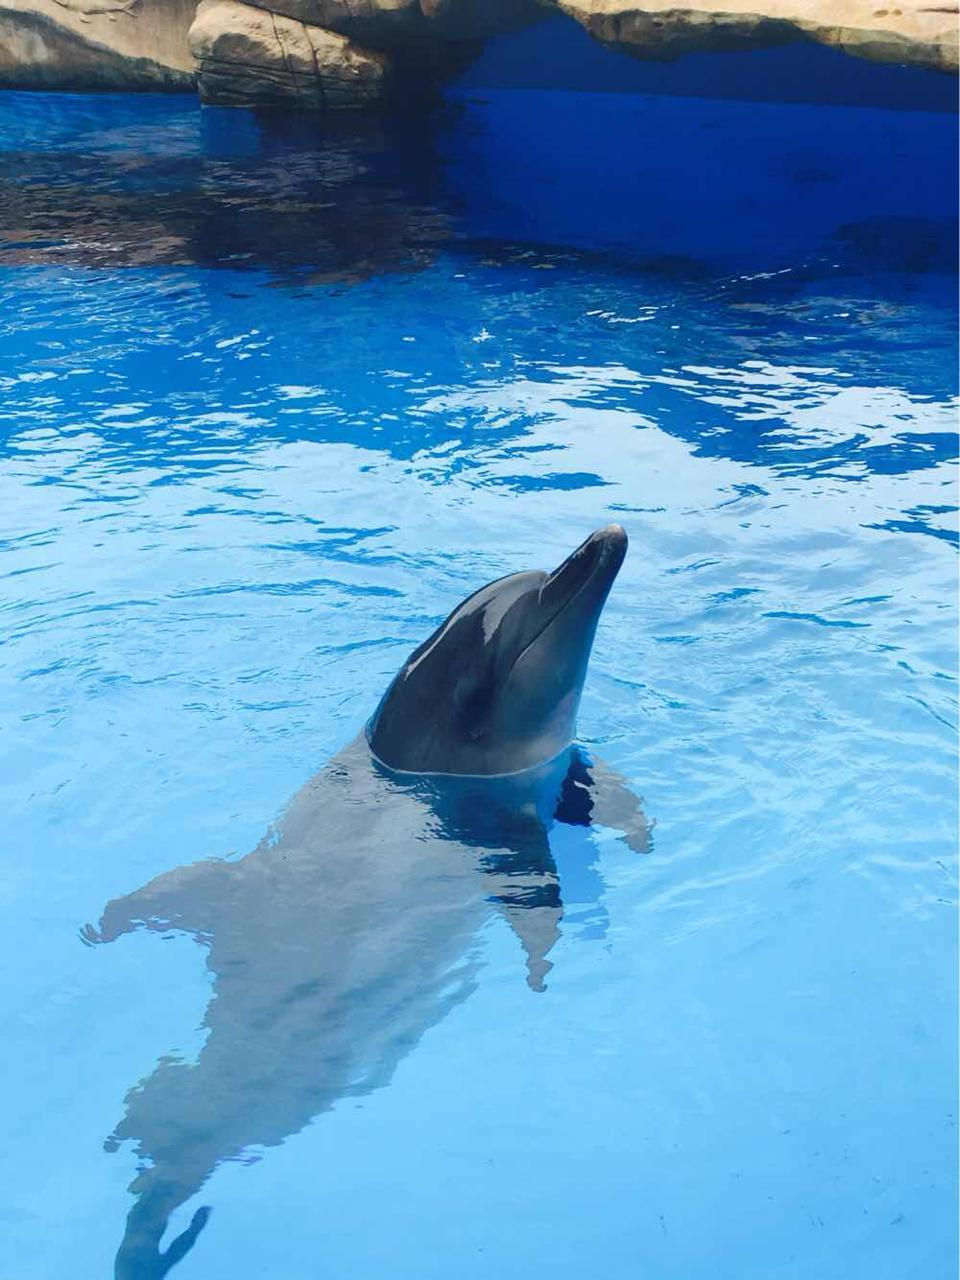fish: (65, 524, 650, 1276)
